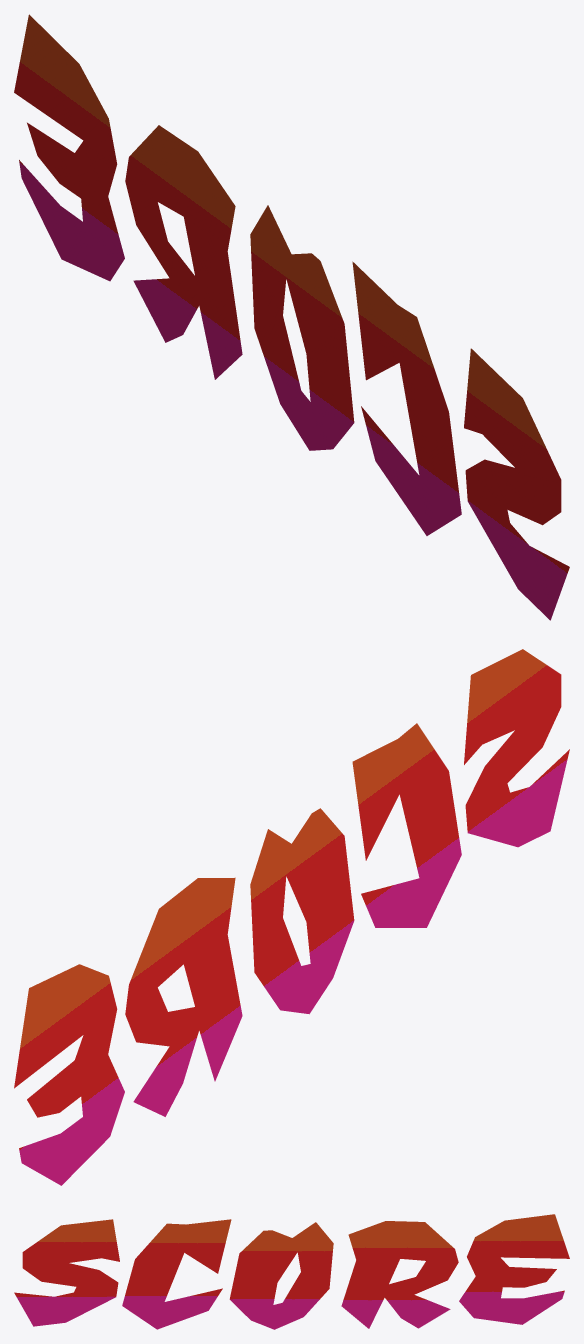
Rendered from text_score.obj.
The picture shows the model from 3 angles, top to bottom: view 1: azimuth 30°, elevation 25°; view 2: azimuth 150°, elevation 25°; view 3: azimuth 270°, elevation 25°; orthographic projection. The views are drawn at different scales.
Parts seen in each view (by area): view 1: text_score; view 2: text_score; view 3: text_score.
Part boxes in pixels (x1,y1,x2,y2): text_score: (14, 14, 569, 620); text_score: (14, 649, 569, 1185); text_score: (14, 1214, 569, 1329).
Size of the model in its own units: 7.99e-06 by 11.33 by 49.35.
Materials: 1 (1 with a texture image).
